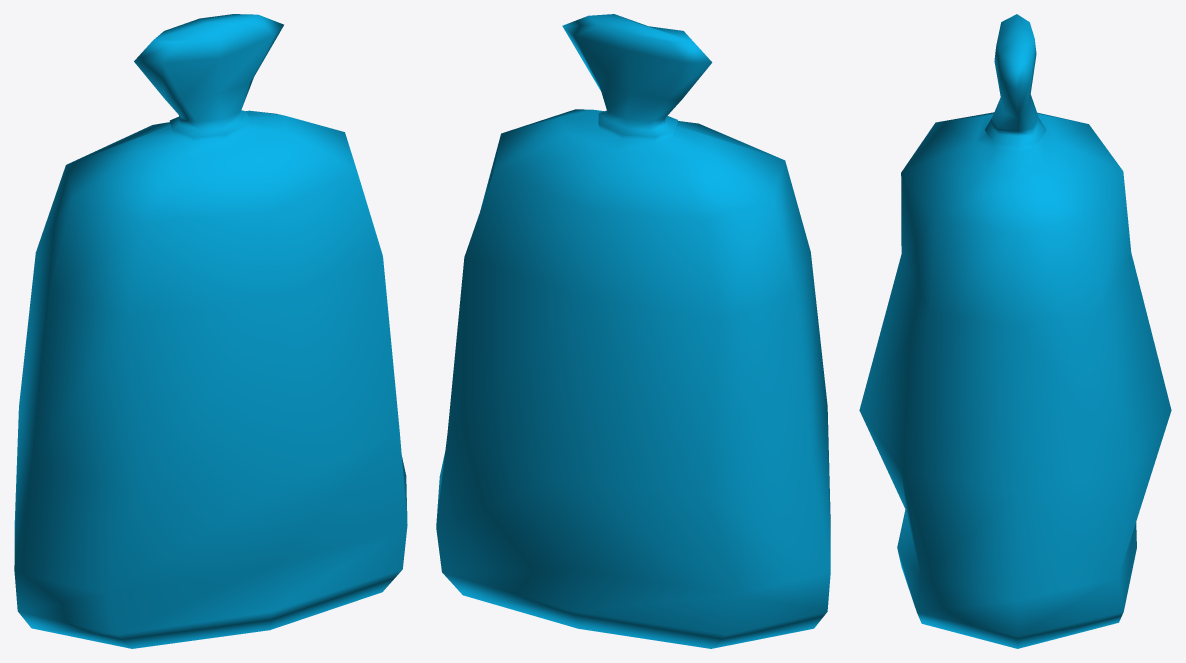
Rendered from Bag_Close_01.fbx.
3 renders of one model, left to right at view 1: azimuth 30°, elevation 25°; view 2: azimuth 150°, elevation 25°; view 3: azimuth 270°, elevation 25°, orthographic. The views are drawn at different scales.
Visible parts, largest first — view 1: Bag_Close_01; view 2: Bag_Close_01; view 3: Bag_Close_01.
Boxes of the visible parts, x1=… form: Bag_Close_01: x1=14, y1=14, x2=407, y2=648; Bag_Close_01: x1=436, y1=14, x2=830, y2=648; Bag_Close_01: x1=859, y1=14, x2=1171, y2=648.
Bounding box in the file's own units: 58.19 × 79.82 × 42.54.
